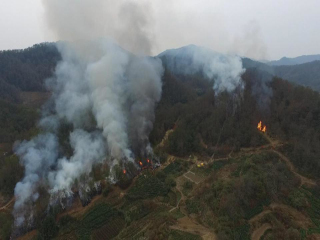smoke: (19, 12, 164, 201), (176, 41, 247, 95)
